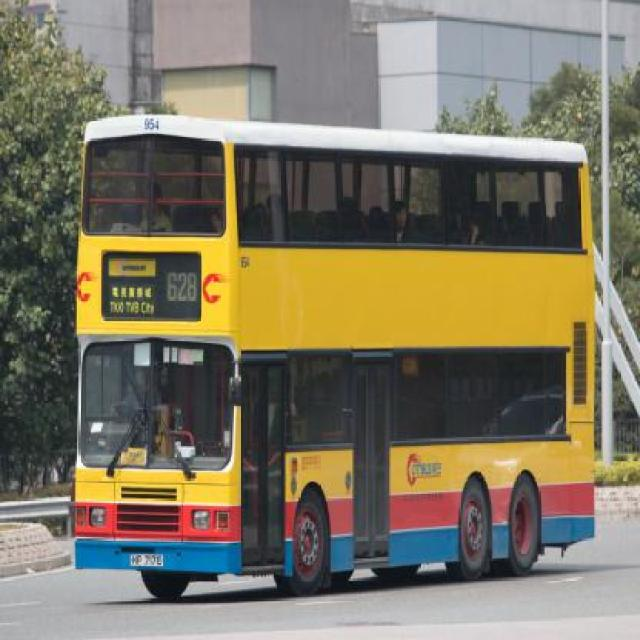Bus: (71, 113, 597, 593)
